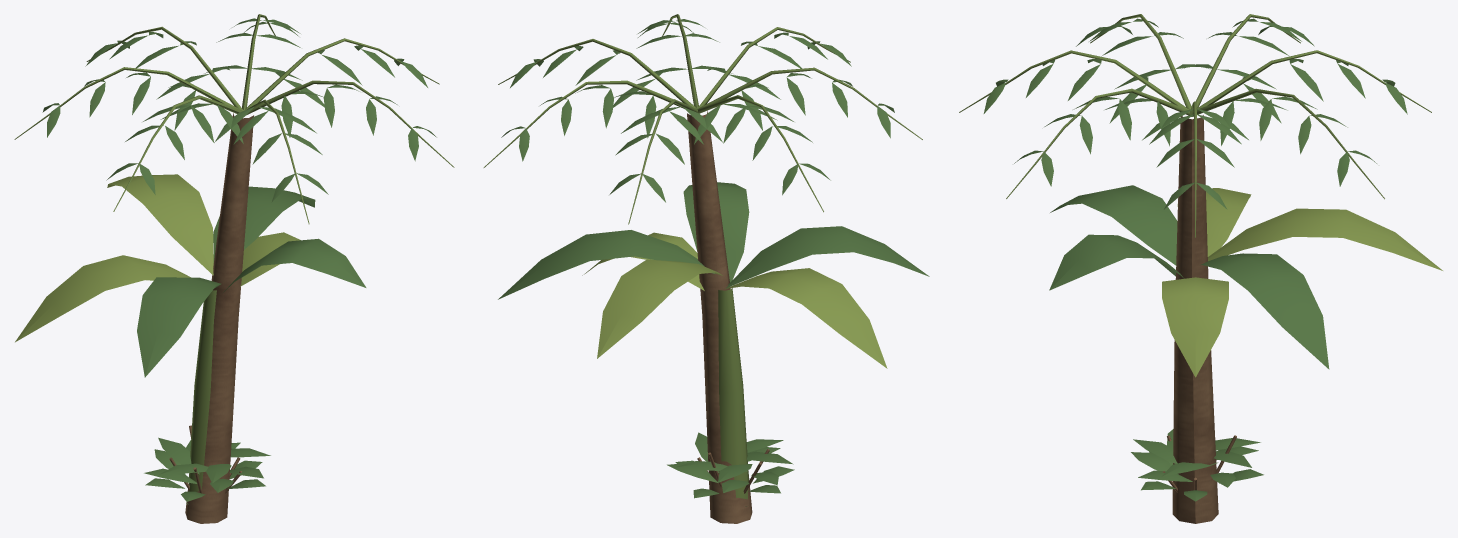
File: vegetation-far.glb
3 renders of one model, left to right at view 1: azimuth 30°, elevation 25°; view 2: azimuth 150°, elevation 25°; view 3: azimuth 270°, elevation 25°, orthographic. The views are drawn at different scales.
Visible parts, largest first — view 1: far_curved_palm_trunk, banana_young_tropical_leaf, banana_tropical_leaf_upper, palm_tropical_leaf_upper, palm_green_fibrous_stem, shrub_tropical_leaf_upper, far_banana_stem; view 2: banana_tropical_leaf_upper, banana_young_tropical_leaf, far_curved_palm_trunk, palm_tropical_leaf_upper, palm_green_fibrous_stem, far_banana_stem, shrub_tropical_leaf_upper; view 3: banana_tropical_leaf_upper, banana_young_tropical_leaf, far_curved_palm_trunk, palm_tropical_leaf_upper, palm_green_fibrous_stem, shrub_tropical_leaf_upper.
Boxes of the visible parts, <box> form: far_curved_palm_trunk: <box>185,113,253,523</box>; banana_young_tropical_leaf: <box>15,174,300,342</box>; banana_tropical_leaf_upper: <box>137,186,366,377</box>; palm_tropical_leaf_upper: <box>42,18,436,202</box>; palm_green_fibrous_stem: <box>14,14,454,224</box>; shrub_tropical_leaf_upper: <box>144,437,270,501</box>; far_banana_stem: <box>188,290,216,491</box>; banana_tropical_leaf_upper: <box>498,182,929,299</box>; banana_young_tropical_leaf: <box>582,232,887,368</box>; far_curved_palm_trunk: <box>687,111,752,523</box>; palm_tropical_leaf_upper: <box>501,19,894,202</box>; palm_green_fibrous_stem: <box>483,14,922,224</box>; far_banana_stem: <box>718,288,748,499</box>; shrub_tropical_leaf_upper: <box>667,432,794,498</box>; banana_tropical_leaf_upper: <box>1049,185,1329,369</box>; banana_young_tropical_leaf: <box>1162,188,1442,377</box>; far_curved_palm_trunk: <box>1172,115,1218,523</box>; palm_tropical_leaf_upper: <box>983,18,1407,209</box>; palm_green_fibrous_stem: <box>959,14,1431,237</box>; shrub_tropical_leaf_upper: <box>1131,429,1263,501</box>.
Bounding box in the file's own units: 4.33 × 4.51 × 4.2.
Materials: 4 (1 with a texture image).
